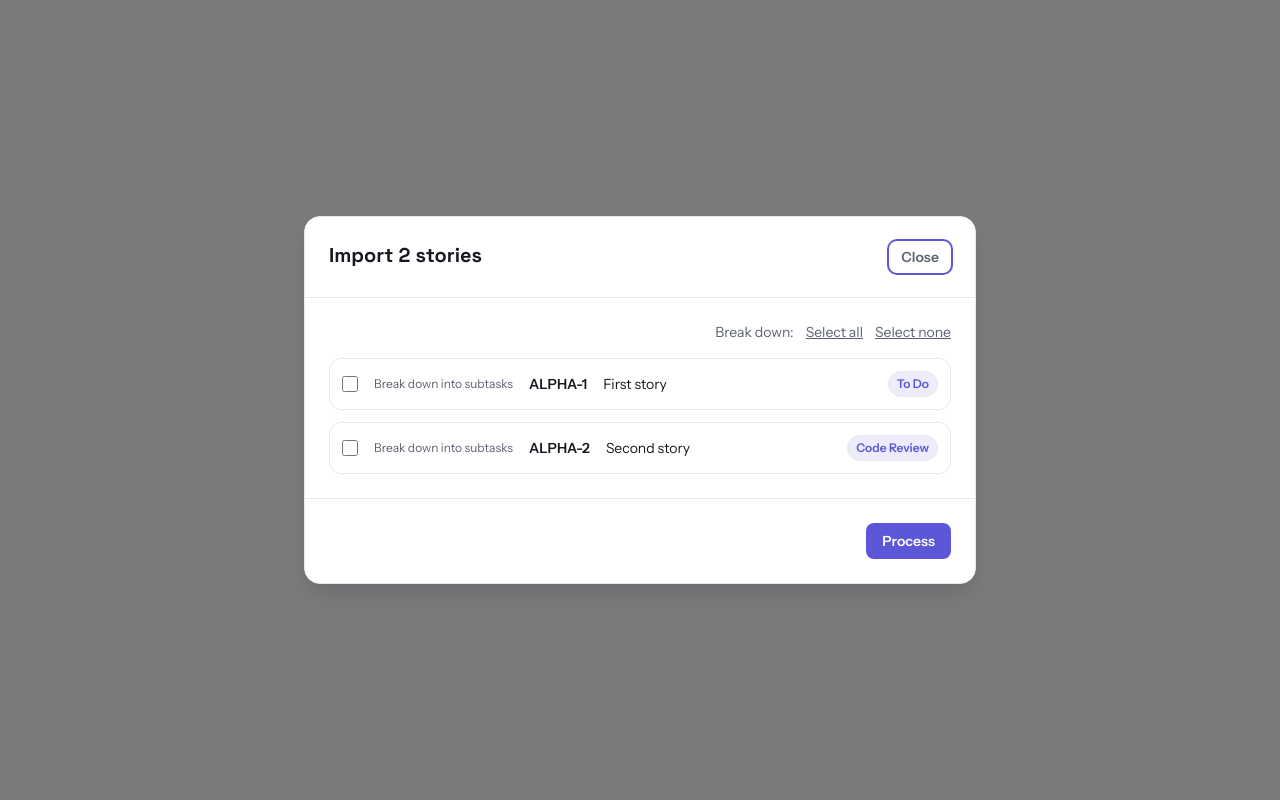
it: ImportReview › shows an inline error and keeps the dialog open when processing fails
Click the button with test id "import-review-process-button": (909, 541) [866,523,951,559]
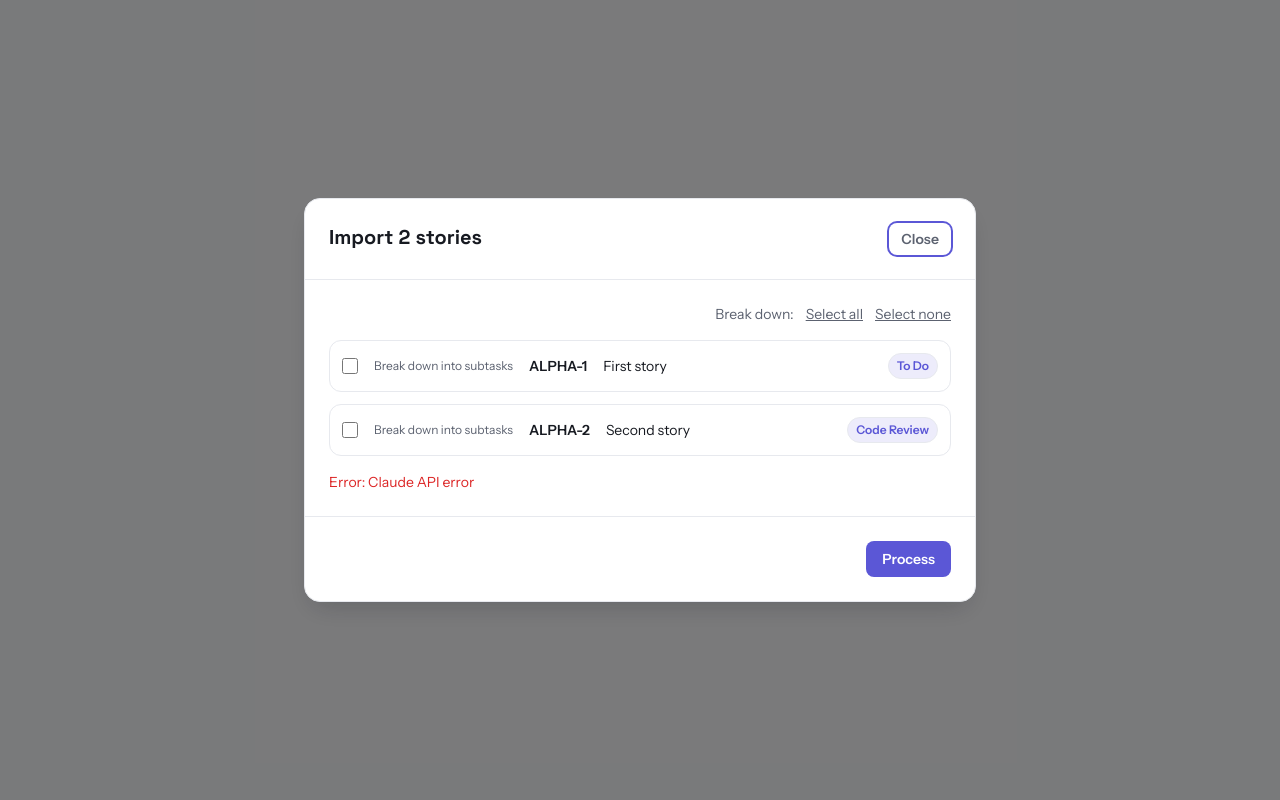
Expected: the dialog with test id "import-review-dialog" is shown, [304,198,976,602]
Expected: the message shows "Claude API error", [368,473,474,491]
